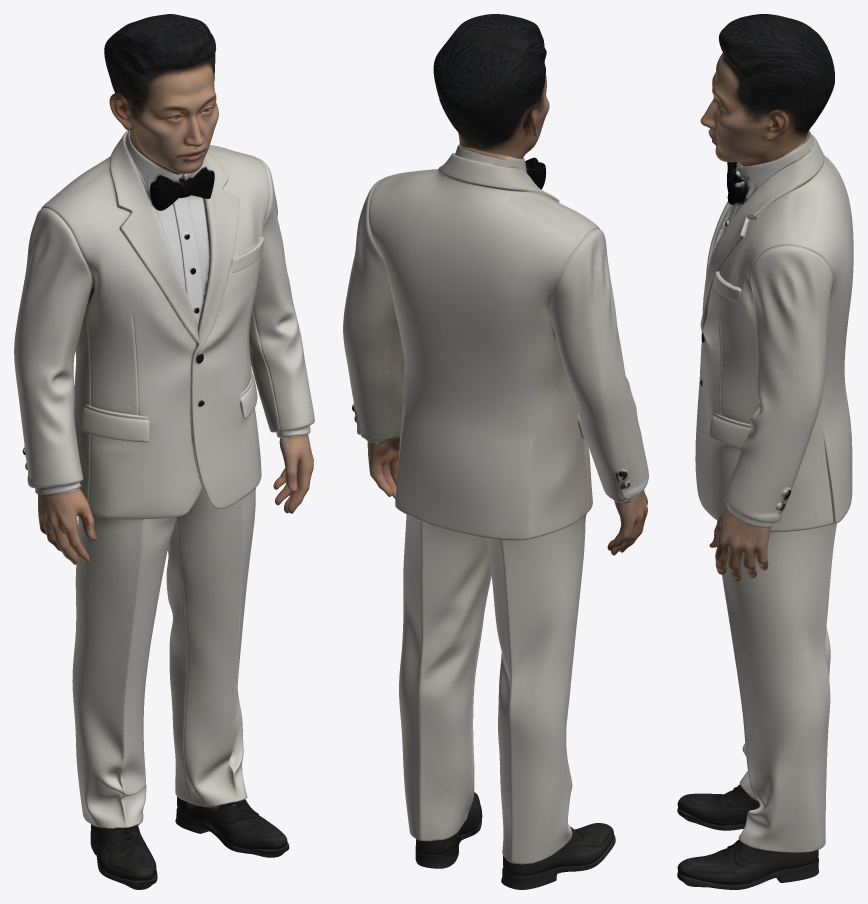
File: Aurelio.glb
3 views of the same model, side by side, from view 1: azimuth 30°, elevation 25°; view 2: azimuth 150°, elevation 25°; view 3: azimuth 270°, elevation 25° (orthographic).
Bounding box in the file's own units: 0.4137 × 1.16 × 0.2259.
Materials: 1 (1 with a texture image).
